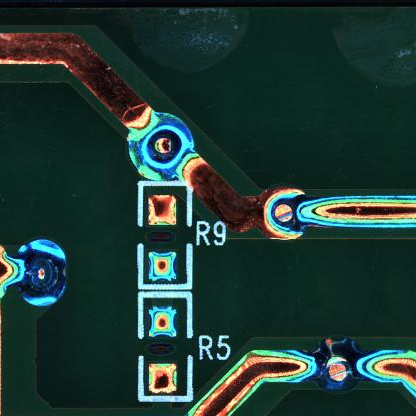spot: (124, 112, 196, 182), (15, 239, 72, 307)
